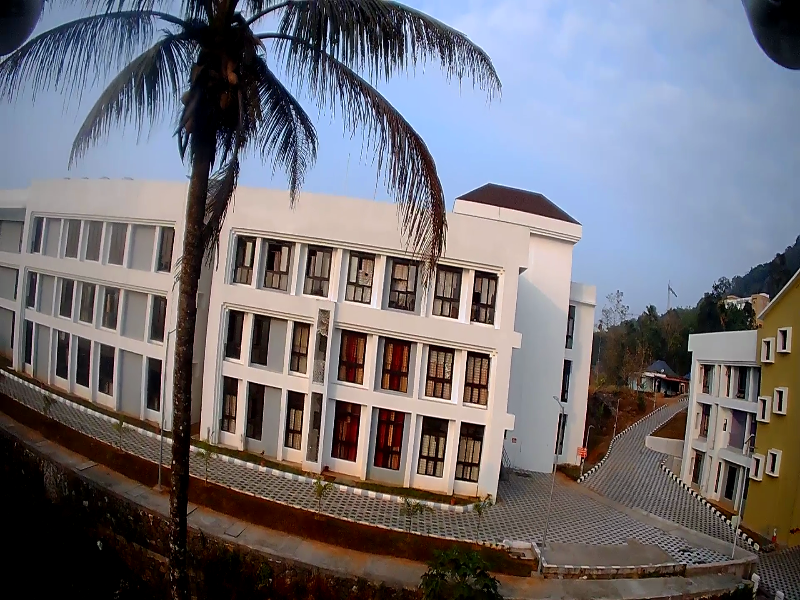coconut: (176, 92, 193, 101), (228, 73, 241, 83)
